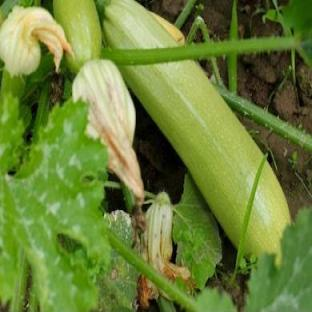Zucchini: (120, 60, 262, 245)
